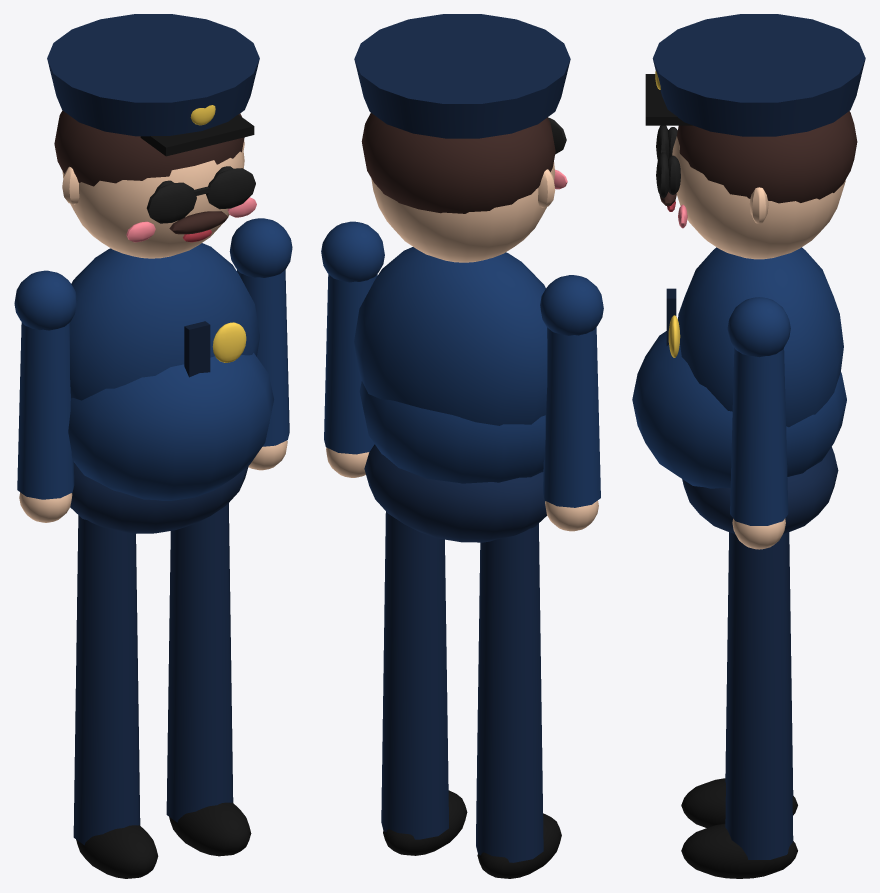
File: underworld_krupnik.glb
3 renders of one model, left to right at view 1: azimuth 30°, elevation 25°; view 2: azimuth 150°, elevation 25°; view 3: azimuth 270°, elevation 25°, orthographic.
Parts seen in each view (by area): view 1: Body, Leg_R, Leg_L, Arm_R, Arm_L; view 2: Body, Leg_R, Leg_L, Arm_R, Arm_L; view 3: Body, Leg_L, Arm_L, Leg_R.
Boxes of the visible parts, x1,y1,x2,y2 form: Body: (47, 14, 273, 533); Leg_R: (73, 515, 158, 878); Leg_L: (166, 503, 251, 856); Arm_R: (14, 270, 77, 522); Arm_L: (229, 218, 292, 470); Body: (354, 14, 570, 542); Leg_R: (476, 523, 561, 878); Leg_L: (381, 511, 467, 855); Arm_R: (540, 275, 603, 531); Arm_L: (321, 221, 384, 477); Body: (632, 14, 865, 533); Leg_L: (681, 532, 797, 878); Arm_L: (727, 297, 790, 549); Leg_R: (681, 532, 797, 827).
Bounding box in the file's own units: 0.6404 × 1.8 × 0.4789.
